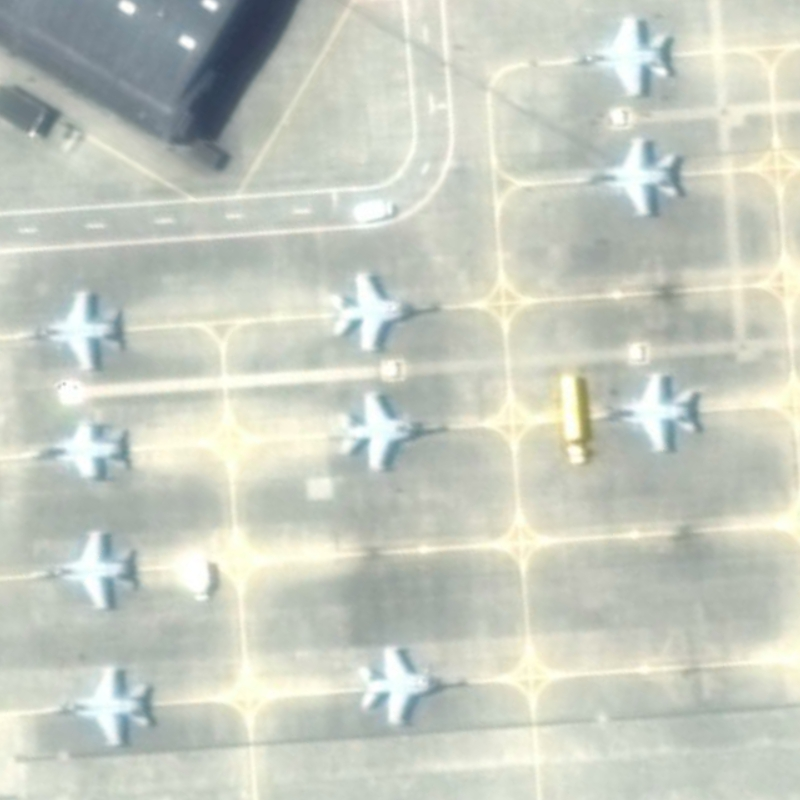A16: (5, 274, 131, 379), (29, 655, 157, 756), (544, 12, 683, 104), (349, 633, 475, 732), (582, 363, 710, 460), (556, 132, 690, 223), (20, 523, 143, 619), (332, 384, 454, 477), (326, 265, 445, 357), (4, 411, 136, 490)
